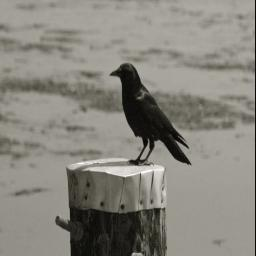Crow: (108, 59, 194, 171)
